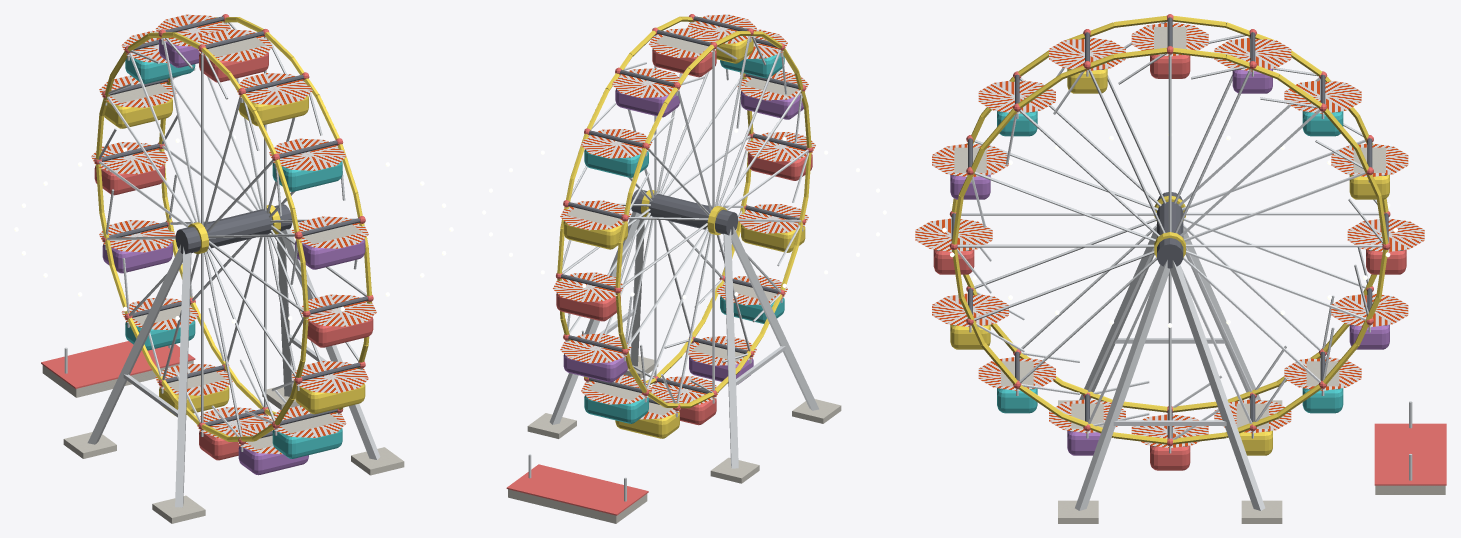
File: theme-park-rides-and-coasters-theme-park-rides-and-coa-d18acb96.glb
3 views of the same model, side by side, from view 1: azimuth 30°, elevation 25°; view 2: azimuth 150°, elevation 25°; view 3: azimuth 270°, elevation 25° (orthographic). The views are drawn at different scales.
Parts seen in each view (by area): view 1: theme-park-rides-and-coasters-ferris-wheel, wheel/steel, wheel/yellow, wheel/red; view 2: theme-park-rides-and-coasters-ferris-wheel, wheel/steel, wheel/yellow, wheel/red; view 3: theme-park-rides-and-coasters-ferris-wheel, wheel/steel, wheel/yellow, wheel/red.
Part boxes in pixels (left/top/right/bottom): theme-park-rides-and-coasters-ferris-wheel: left=14, top=14, right=453, bottom=523; wheel/steel: left=98, top=22, right=366, bottom=436; wheel/yellow: left=96, top=17, right=371, bottom=441; wheel/red: left=94, top=14, right=373, bottom=444; theme-park-rides-and-coasters-ferris-wheel: left=482, top=14, right=886, bottom=523; wheel/steel: left=562, top=22, right=808, bottom=403; wheel/yellow: left=557, top=16, right=811, bottom=408; wheel/red: left=556, top=14, right=812, bottom=410; theme-park-rides-and-coasters-ferris-wheel: left=915, top=17, right=1446, bottom=523; wheel/steel: left=957, top=21, right=1383, bottom=439; wheel/yellow: left=952, top=15, right=1388, bottom=444; wheel/red: left=949, top=14, right=1390, bottom=446.
Size of the model in its own units: 16.88 by 17.87 by 19.66.
Materials: 9 (2 with a texture image).
